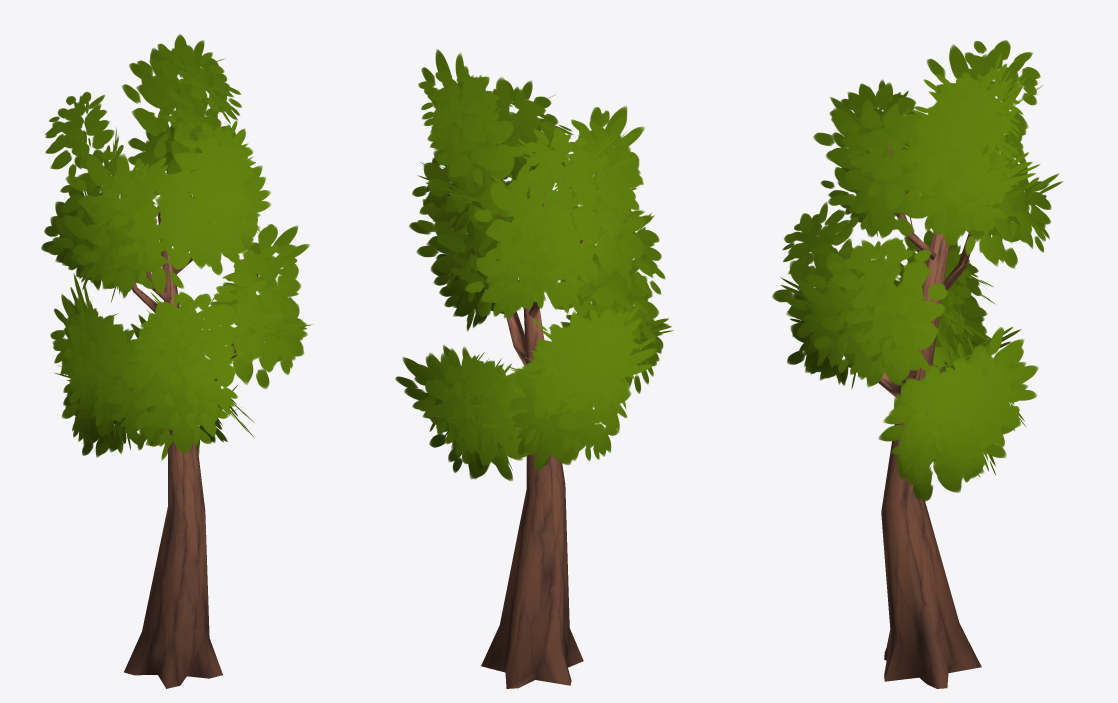
The model's file is broad-1.glb.
3 views of the same model, side by side, from view 1: azimuth 30°, elevation 25°; view 2: azimuth 150°, elevation 25°; view 3: azimuth 270°, elevation 25° (orthographic). The views are drawn at different scales.
Parts seen in each view (by area): view 1: CommonTree_3; view 2: CommonTree_3; view 3: CommonTree_3.
Boxes of the visible parts, x1=… form: CommonTree_3: x1=41, y1=34, x2=312, y2=688; CommonTree_3: x1=395, y1=49, x2=673, y2=688; CommonTree_3: x1=772, y1=40, x2=1063, y2=688.
Bounding box in the file's own units: 4.71 × 9.6 × 4.82.
Materials: 2 (2 with a texture image).
